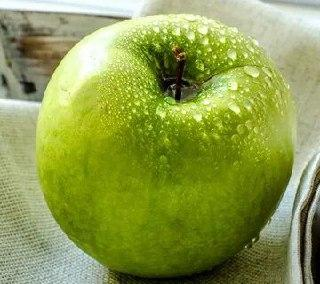Apple: (36, 14, 296, 276)
